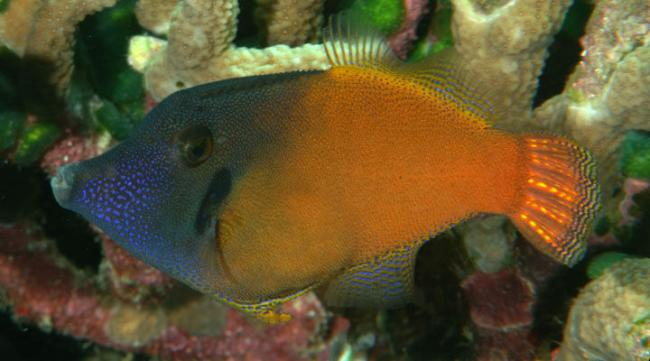fish: (51, 13, 602, 324)
